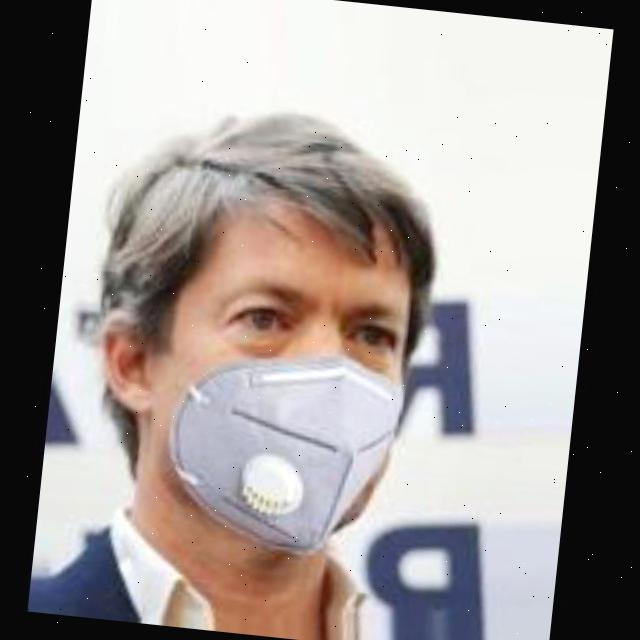suspicion: (73, 98, 456, 530)
